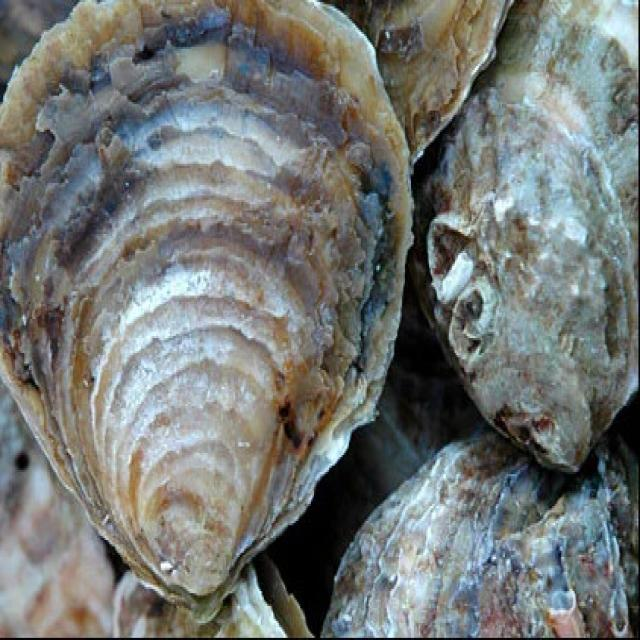Oyster-Closed: (322, 0, 515, 161)
Oyster-Indeterminate: (0, 0, 417, 617), (405, 0, 640, 470), (322, 426, 640, 640), (0, 387, 117, 640), (379, 274, 483, 466), (0, 0, 82, 90)
Oyster-Open: (117, 555, 312, 640)
